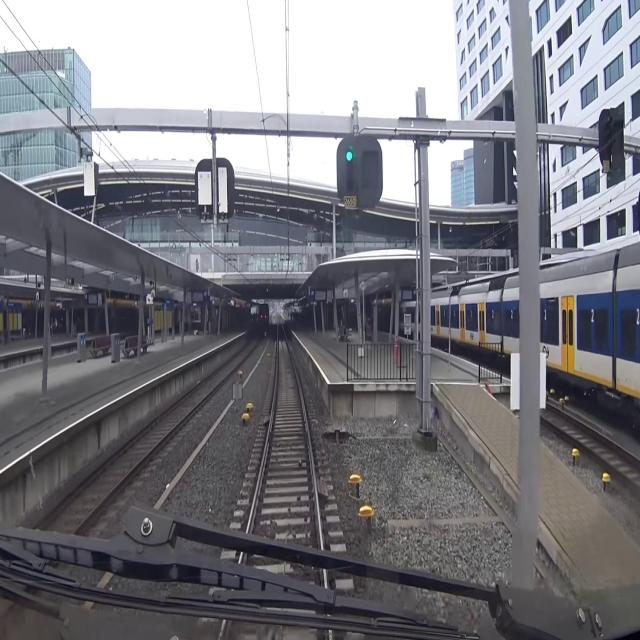rail-track: (38, 340, 256, 532), (253, 318, 318, 542), (543, 406, 640, 481)
